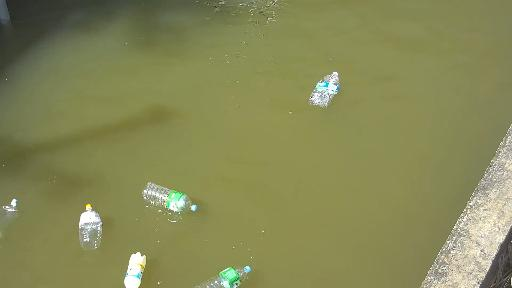plastic: (296, 67, 352, 111), (140, 182, 205, 217), (73, 204, 104, 245), (200, 267, 260, 288), (123, 253, 155, 286), (0, 191, 19, 216)
